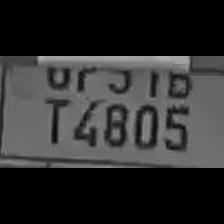0: (130, 98, 159, 150)
1: (136, 61, 162, 95)
4: (68, 95, 100, 149)
5: (160, 100, 190, 152), (100, 56, 136, 94)
8: (100, 98, 128, 148)
P: (69, 56, 100, 92)
T: (38, 92, 70, 146)
U: (39, 56, 73, 90)
